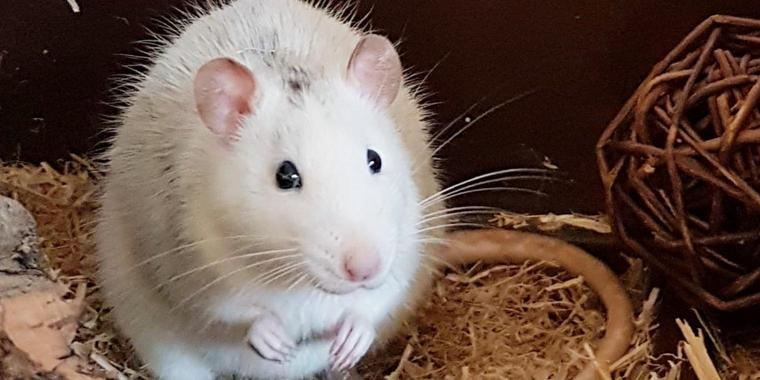rat: (70, 2, 486, 380)
